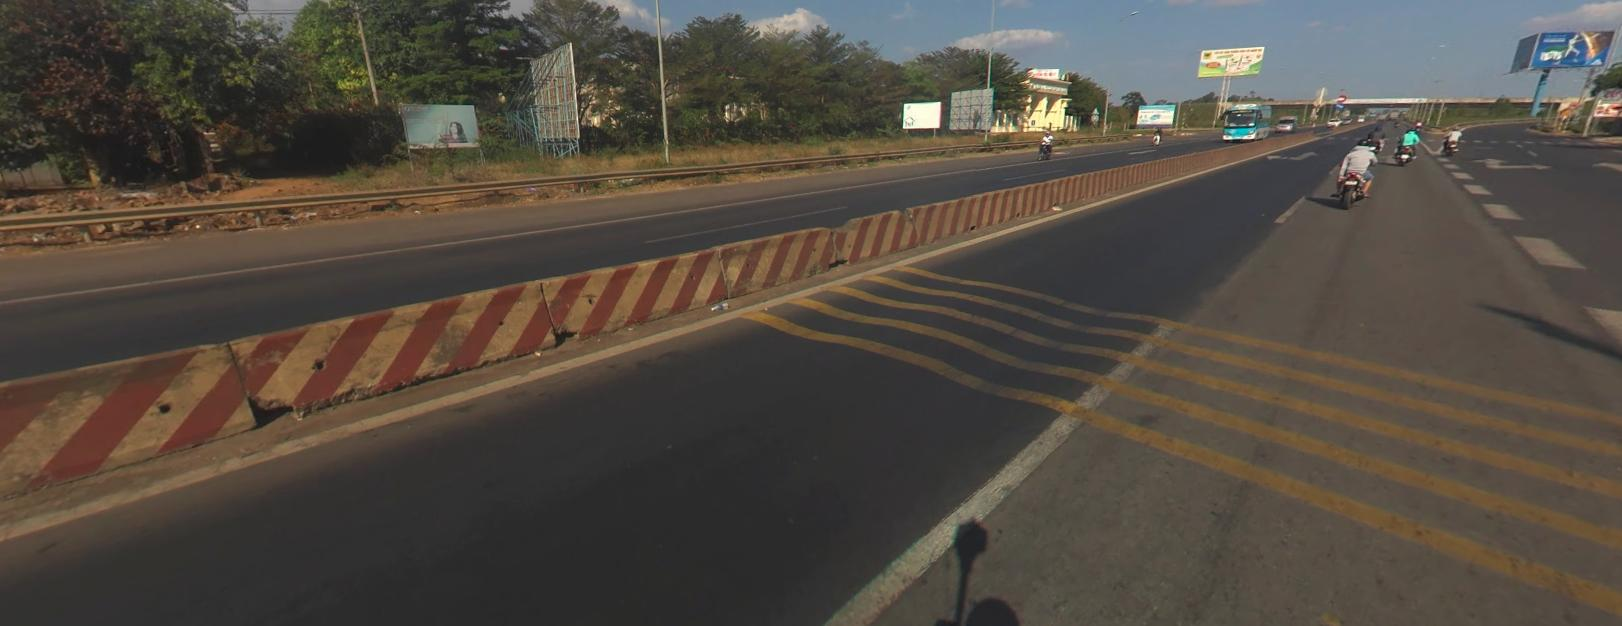Cam nguoc chieu: (1335, 93, 1344, 101), (1337, 94, 1346, 100)
Hieu lenh: (1335, 102, 1344, 110), (1336, 102, 1343, 108)
